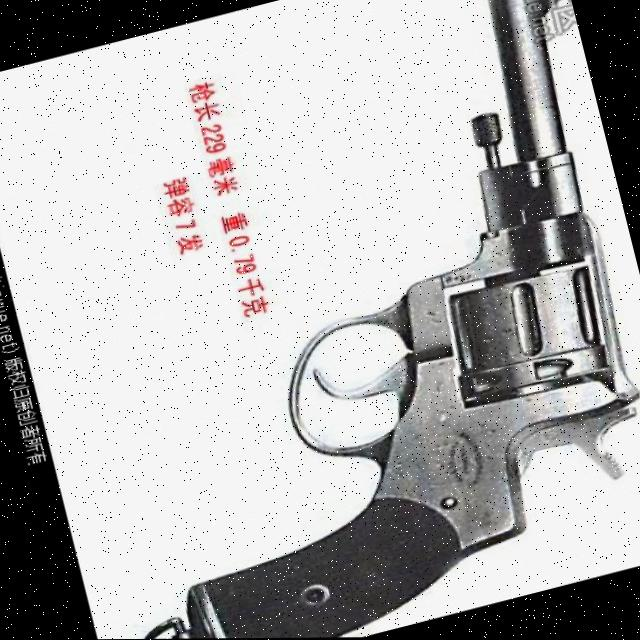pistol: (56, 0, 640, 640)
